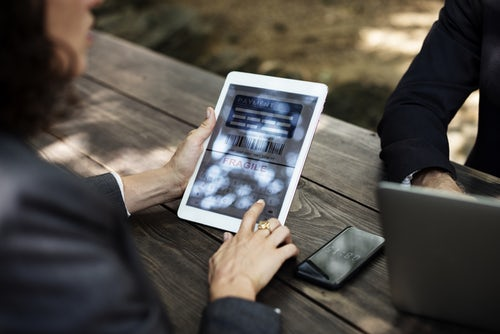phone: (293, 220, 384, 295)
